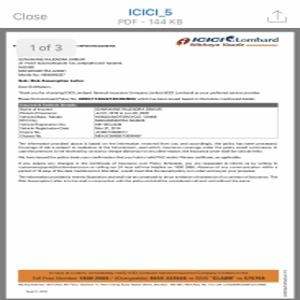image: (176, 33, 282, 51)
table: (16, 102, 278, 139)
text: (15, 139, 279, 184), (18, 56, 260, 102)
